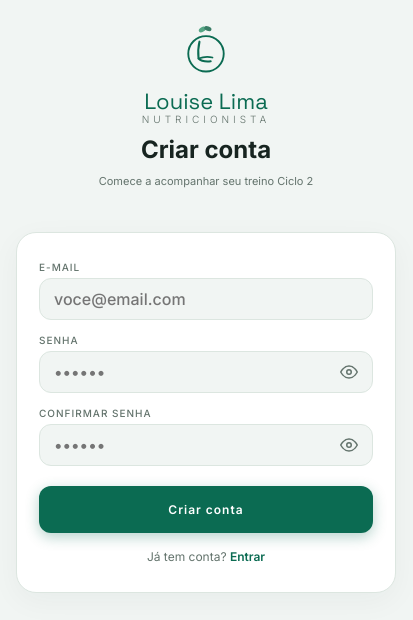
Test: CadastroPage — criar conta com confirmação de senha › pede confirmação quando o campo está vazio
The width and height of the screenshot is (413, 620).
In the field labelled "E-mail": (206, 299) 39,278 -> 373,320, type "nova@email.com"
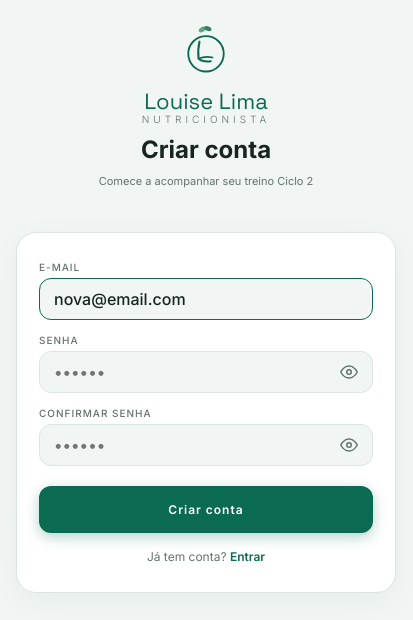
In the password field labelled "Senha": (206, 372) 39,351 -> 373,393, type "123456"
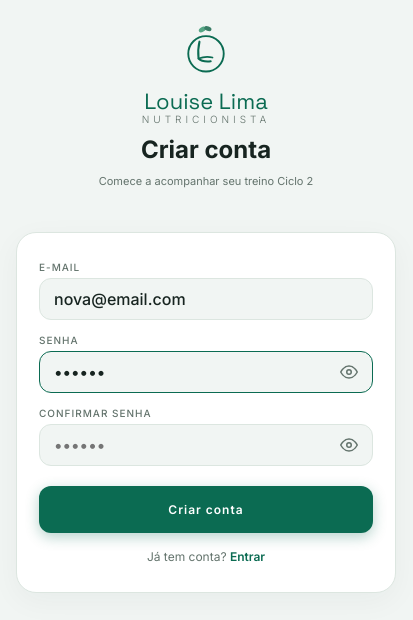
Click the button "Criar conta": (206, 509) 39,486 -> 373,533
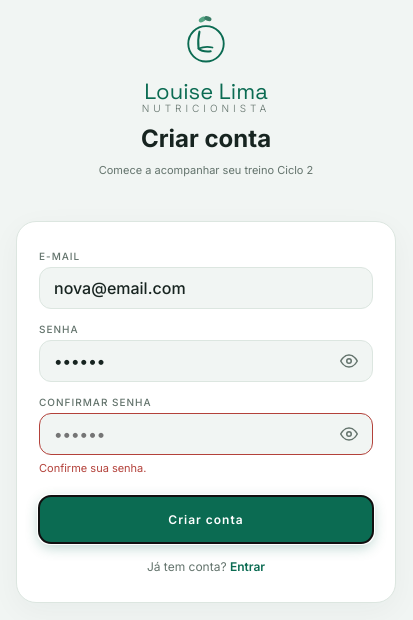
Result: the message reads "Confirme sua senha." at 39,461 -> 146,475
